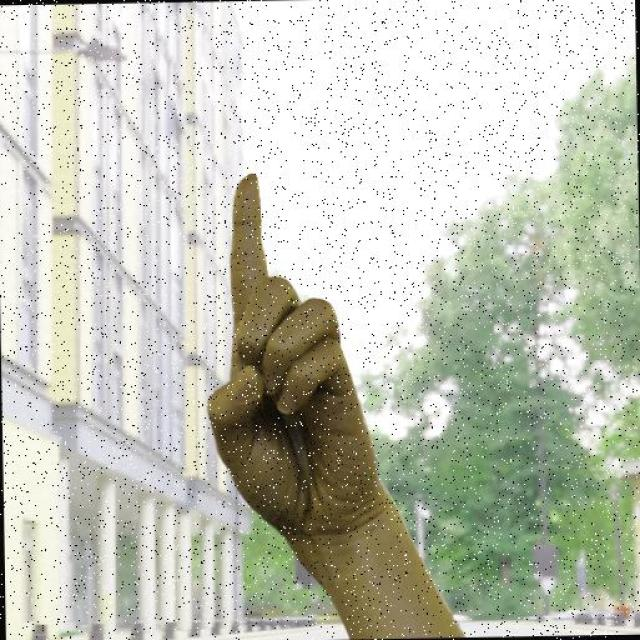D: (201, 169, 390, 536)
